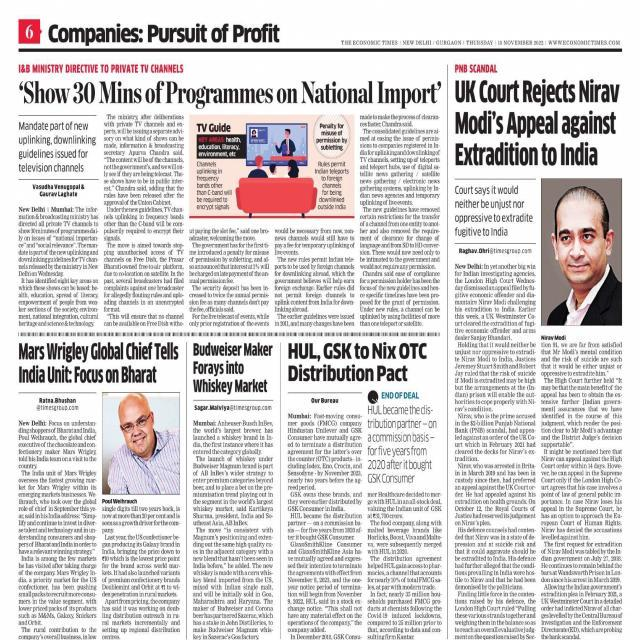Article: (14, 76, 444, 342), (452, 80, 628, 640), (280, 340, 444, 640), (17, 343, 182, 640), (189, 346, 278, 640)
Body: (453, 262, 537, 640), (540, 341, 622, 640), (192, 419, 274, 640), (359, 114, 442, 328), (18, 420, 98, 640), (103, 114, 184, 328), (287, 412, 362, 640), (366, 492, 443, 640), (101, 505, 180, 640), (18, 205, 99, 328), (188, 228, 270, 328), (274, 228, 356, 328)
Date: (466, 39, 545, 47)
Heading: (454, 79, 620, 166), (19, 80, 443, 110), (18, 342, 180, 384), (287, 340, 428, 382), (192, 341, 274, 395)
Highlights: (367, 404, 437, 484), (454, 184, 534, 238), (18, 120, 96, 173), (196, 161, 233, 212), (315, 160, 350, 210), (198, 134, 242, 158), (316, 121, 348, 152)
Image: (541, 178, 622, 325), (103, 392, 181, 494), (244, 122, 314, 218)
Name: (47, 23, 281, 44), (341, 38, 398, 48)
